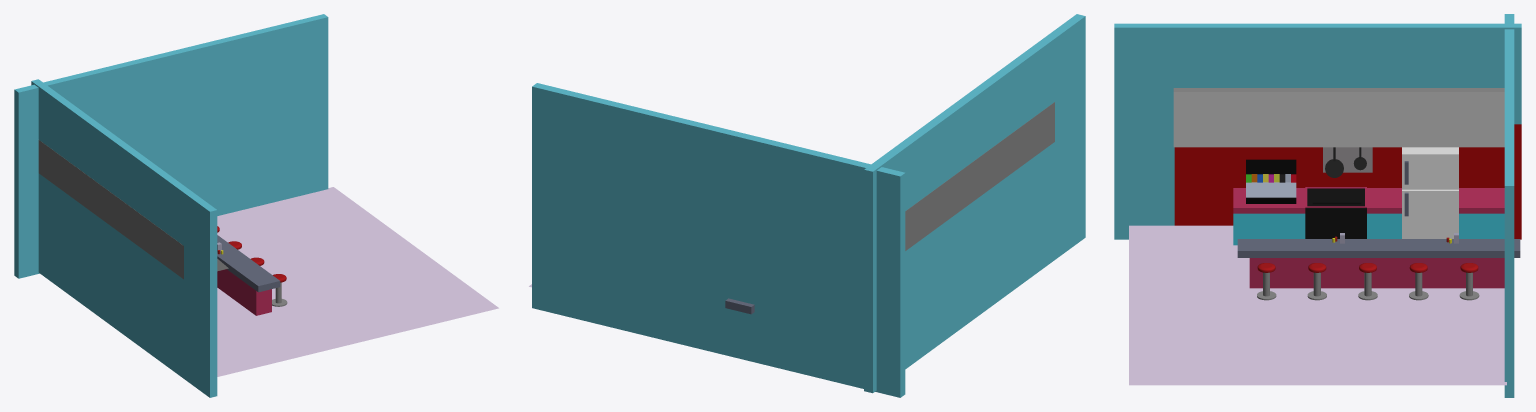
File: DinerMap.fbx
The picture shows the model from 3 angles, left to right: view 1: azimuth 30°, elevation 25°; view 2: azimuth 150°, elevation 25°; view 3: azimuth 270°, elevation 25°; orthographic projection. The views are drawn at different scales.
Parts seen in each view (by area): view 1: Cube.003, Cube.004, Plane, Cube.012, Cube.002, Cube.001, Cylinder.001; view 2: Cube.003, Cube.004, Cube.012; view 3: Cube.004, Plane, Cube.012, Cube.005, Cube.001, Cube.002, Cube.007, Cube.003, Cylinder.001, Cube.013, Cube.014, Cube.006.
Boxes of the visible parts, x1,y1,x2,y2 form: Cube.003: (14,14,328,278); Cube.004: (31,79,217,397); Plane: (217,187,498,376); Cube.012: (38,140,228,279); Cube.002: (217,235,280,292); Cube.001: (217,269,271,315); Cylinder.001: (217,226,287,306); Cube.003: (532,83,905,397); Cube.004: (864,14,1085,393); Cube.012: (905,102,1054,250); Cube.004: (1114,23,1521,239); Plane: (1129,225,1506,385); Cube.012: (1173,88,1504,147); Cube.005: (1233,187,1504,245); Cube.001: (1249,258,1504,288); Cube.002: (1237,239,1520,257); Cube.007: (1402,147,1458,238); Cube.003: (1504,14,1514,397); Cylinder.001: (1257,263,1479,300); Cube.013: (1246,159,1296,203); Cube.014: (1323,147,1372,172); Cube.006: (1312,189,1361,204).
Size of the model in its own units: 25909 by 14697 by 25392.
